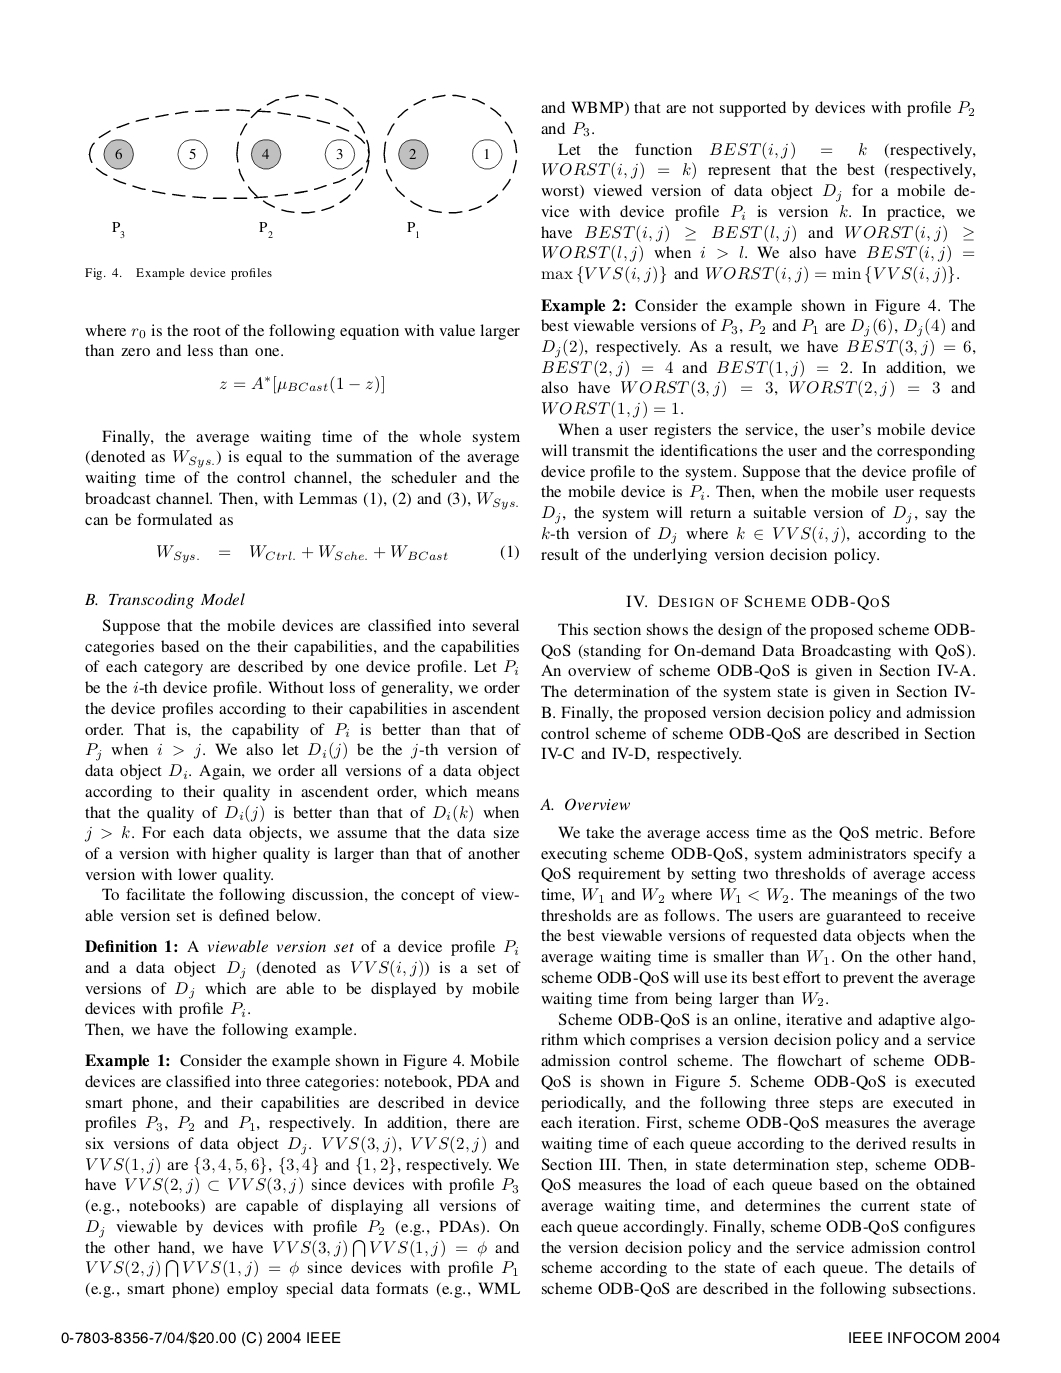figure: (88, 94, 517, 238)
formula: (157, 544, 518, 563), (220, 374, 383, 395)
